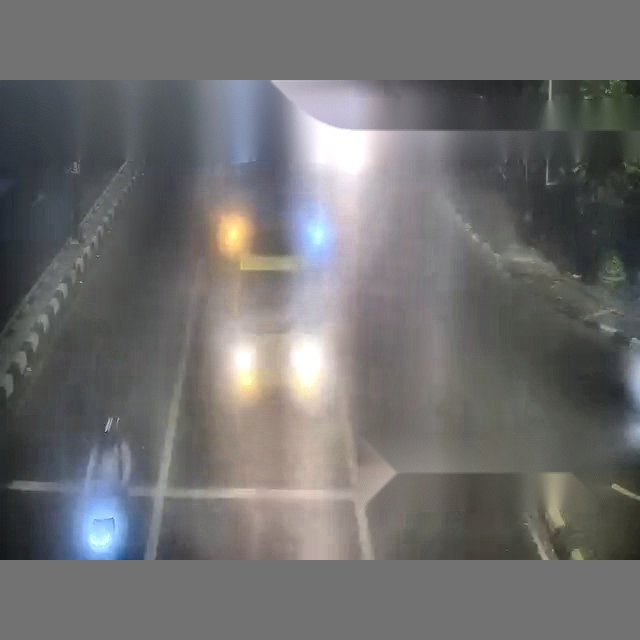Mobil: (626, 336, 639, 415)
